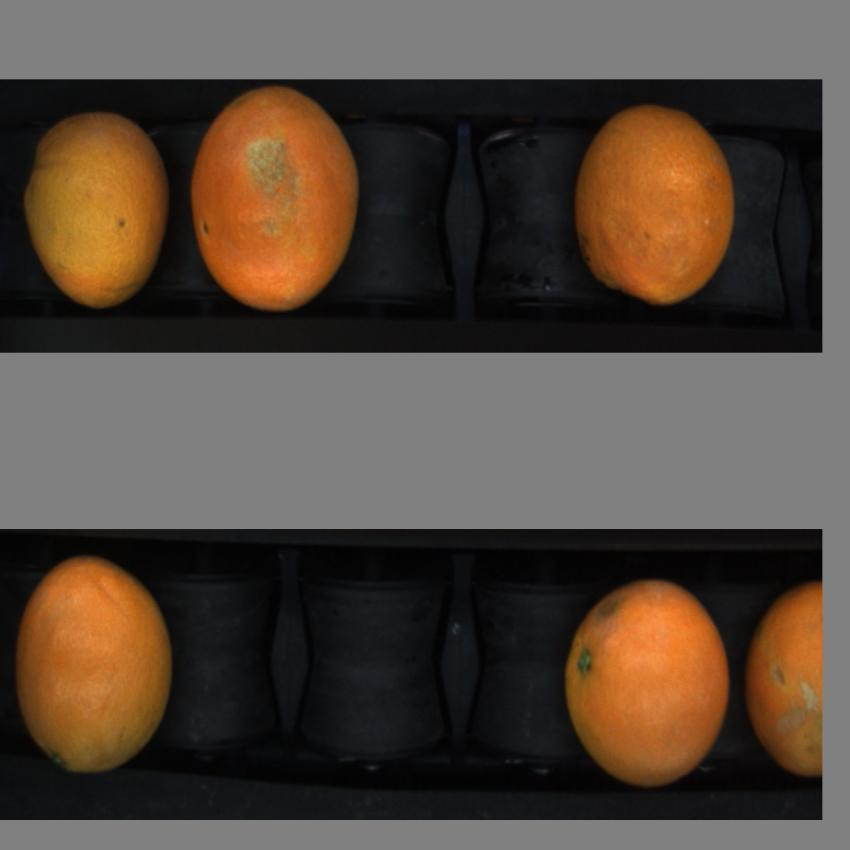Buen estado: (183, 84, 367, 320), (563, 92, 742, 309), (13, 550, 180, 782), (20, 108, 176, 316), (742, 569, 824, 799)
Mal estado: (560, 561, 733, 791)
